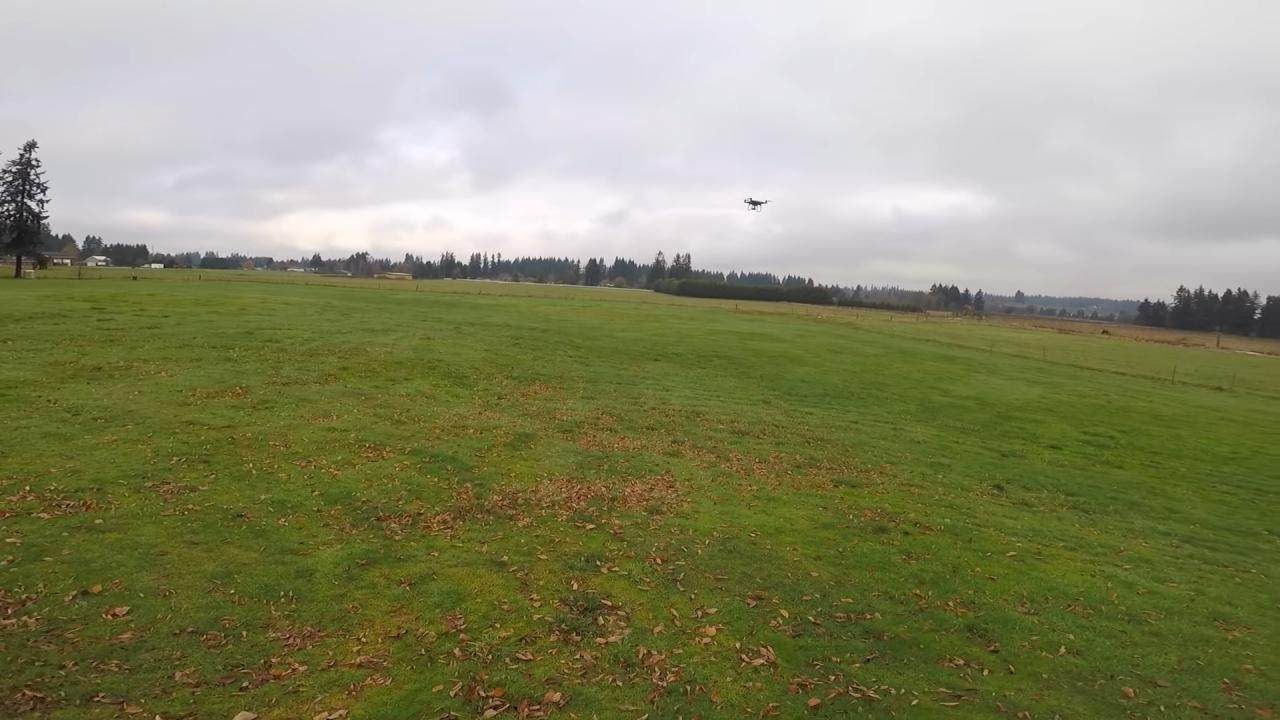Drone: (734, 189, 777, 219)
